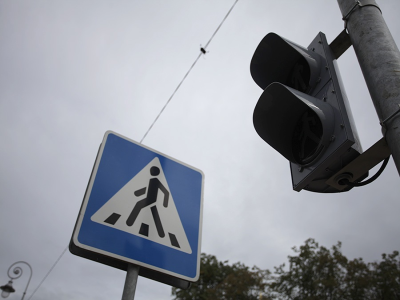crosswalk: (82, 137, 200, 278)
